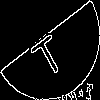T: (25, 25, 68, 80)
